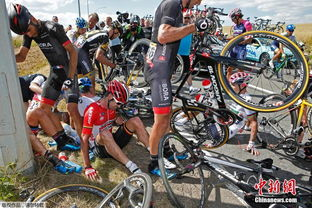10+: (7, 1, 311, 153)
down: (79, 77, 176, 182), (220, 69, 260, 160), (25, 109, 78, 176), (73, 75, 101, 114)
